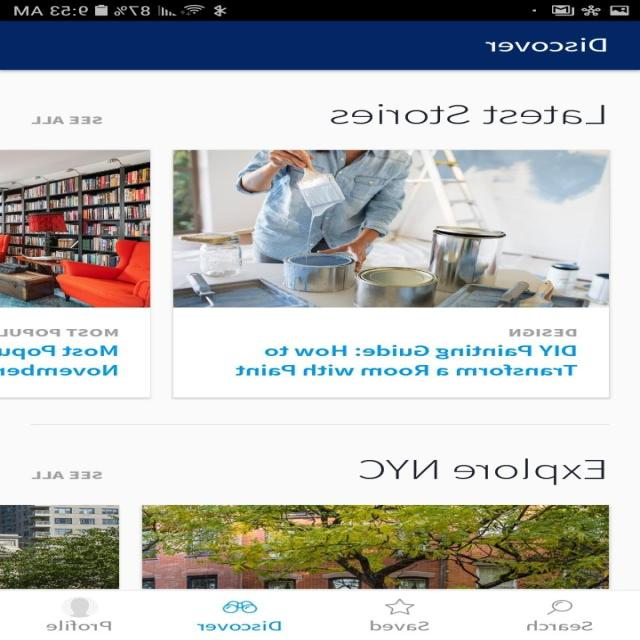Icon: (62, 596, 100, 617), (385, 598, 416, 614), (546, 599, 574, 615)
Image: (173, 150, 610, 307), (142, 504, 610, 589), (1, 150, 151, 308), (1, 504, 120, 589), (222, 600, 258, 613)
Text: (235, 344, 578, 376), (359, 458, 605, 485), (330, 103, 606, 125), (1, 344, 119, 376), (484, 37, 608, 52), (1, 328, 119, 337), (197, 620, 282, 631), (526, 620, 594, 630), (47, 620, 113, 630), (32, 470, 104, 479), (32, 116, 103, 125), (508, 328, 577, 337), (371, 620, 432, 630)
